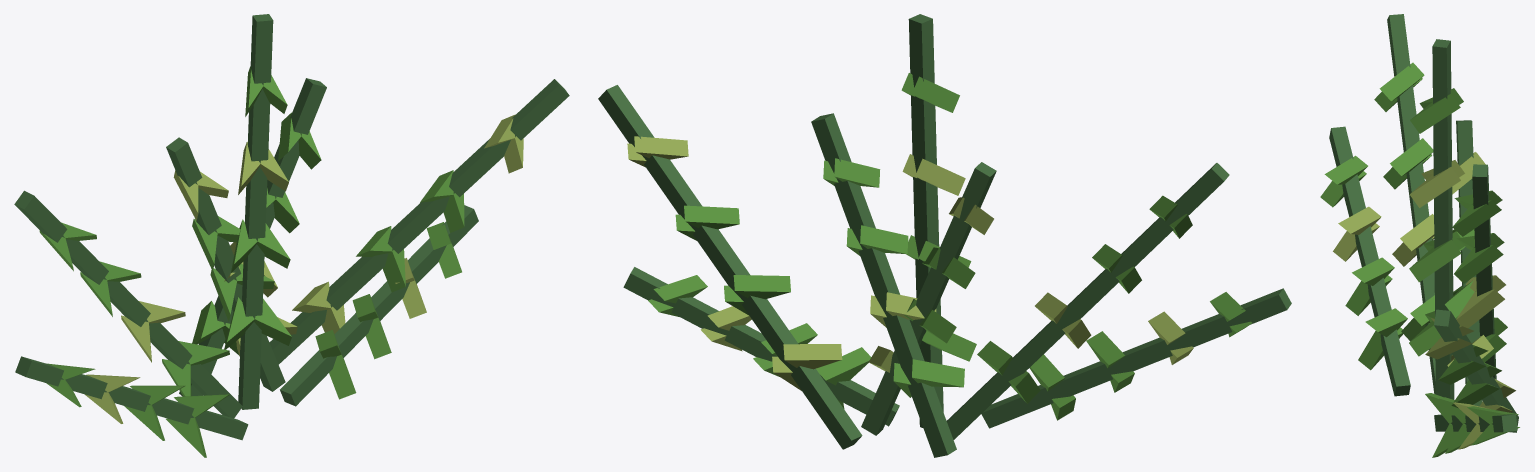
The model's file is fg-grass.glb.
3 views of the same model, side by side, from view 1: azimuth 30°, elevation 25°; view 2: azimuth 150°, elevation 25°; view 3: azimuth 270°, elevation 25° (orthographic). The views are drawn at different scales.
Visible parts, largest first — view 1: Stem.003, Stem.005, Stem.001, Stem.006, Stem, Stem.002, Stem.004, Leaflet.025, Leaflet.032, Leaflet.043, Leaflet.049, Leaflet.040 (+21 smaller); view 2: Stem.005, Stem.004, Stem.001, Stem, Stem.003, Stem.002, Stem.006, Leaflet.040, Leaflet.042, Leaflet.032, Leaflet.044, Leaflet.048 (+10 smaller); view 3: Stem.003, Stem, Stem.001, Stem.004, Stem.005, Stem.002, Leaflet.027, Stem.006, Leaflet.029, Leaflet.035, Leaflet.031, Leaflet.037 (+37 smaller).
Part boxes in pixels (x1=…): Stem.003: x1=238, y1=14, x2=273, y2=409; Stem.005: x1=269, y1=79, x2=569, y2=364; Stem.001: x1=14, y1=190, x2=242, y2=418; Stem.006: x1=280, y1=205, x2=478, y2=406; Stem: x1=15, y1=356, x2=248, y2=440; Stem.002: x1=166, y1=137, x2=285, y2=391; Stem.004: x1=179, y1=78, x2=326, y2=396; Leaflet.025: x1=254, y1=298, x2=291, y2=345; Leaflet.032: x1=192, y1=301, x2=224, y2=344; Leaflet.043: x1=383, y1=249, x2=405, y2=292; Leaflet.049: x1=329, y1=354, x2=356, y2=399; Leaflet.040: x1=292, y1=281, x2=330, y2=312; Stem.005: x1=598, y1=85, x2=862, y2=449; Stem.004: x1=811, y1=113, x2=956, y2=457; Stem.001: x1=946, y1=163, x2=1229, y2=439; Stem: x1=981, y1=288, x2=1291, y2=428; Stem.003: x1=908, y1=14, x2=943, y2=427; Stem.002: x1=861, y1=162, x2=996, y2=435; Stem.006: x1=623, y1=267, x2=899, y2=426; Leaflet.040: x1=783, y1=344, x2=842, y2=369; Leaflet.042: x1=733, y1=275, x2=790, y2=299; Leaflet.032: x1=912, y1=359, x2=964, y2=387; Leaflet.044: x1=684, y1=205, x2=739, y2=229; Leaflet.048: x1=816, y1=347, x2=871, y2=385; Stem.003: x1=1432, y1=39, x2=1454, y2=399; Stem: x1=1329, y1=126, x2=1410, y2=396; Stem.001: x1=1387, y1=14, x2=1435, y2=394; Stem.004: x1=1472, y1=164, x2=1496, y2=379; Stem.005: x1=1434, y1=309, x2=1518, y2=432; Stem.002: x1=1456, y1=120, x2=1482, y2=406; Leaflet.027: x1=1409, y1=240, x2=1461, y2=282; Stem.006: x1=1434, y1=414, x2=1517, y2=432; Leaflet.029: x1=1409, y1=167, x2=1460, y2=207; Leaflet.035: x1=1456, y1=289, x2=1504, y2=328; Leaflet.031: x1=1410, y1=94, x2=1460, y2=133; Leaflet.037: x1=1454, y1=245, x2=1503, y2=283.
Size of the model in its own units: 1.7 by 1.07 by 0.5144.
